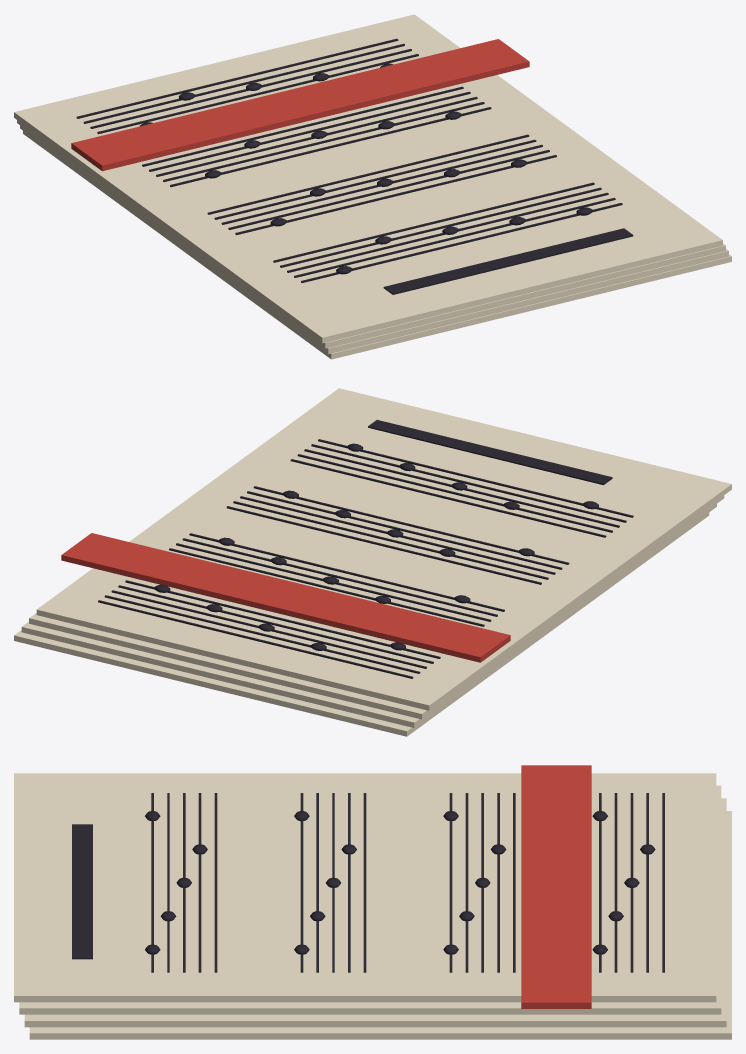
Rendered from SM_PRP_PartituraOdete.fbx.
The picture shows the model from 3 angles, top to bottom: view 1: azimuth 30°, elevation 25°; view 2: azimuth 150°, elevation 25°; view 3: azimuth 270°, elevation 25°; orthographic projection. The views are drawn at different scales.
Visible parts, largest first — view 1: SM_PRP_PartituraOdete; view 2: SM_PRP_PartituraOdete; view 3: SM_PRP_PartituraOdete.
Boxes of the visible parts, <box> form: SM_PRP_PartituraOdete: <box>14,14,731,359</box>; SM_PRP_PartituraOdete: <box>14,388,731,736</box>; SM_PRP_PartituraOdete: <box>14,765,731,1039</box>.
Bounding box in the file's own units: 0.322 × 0.028 × 0.409.
